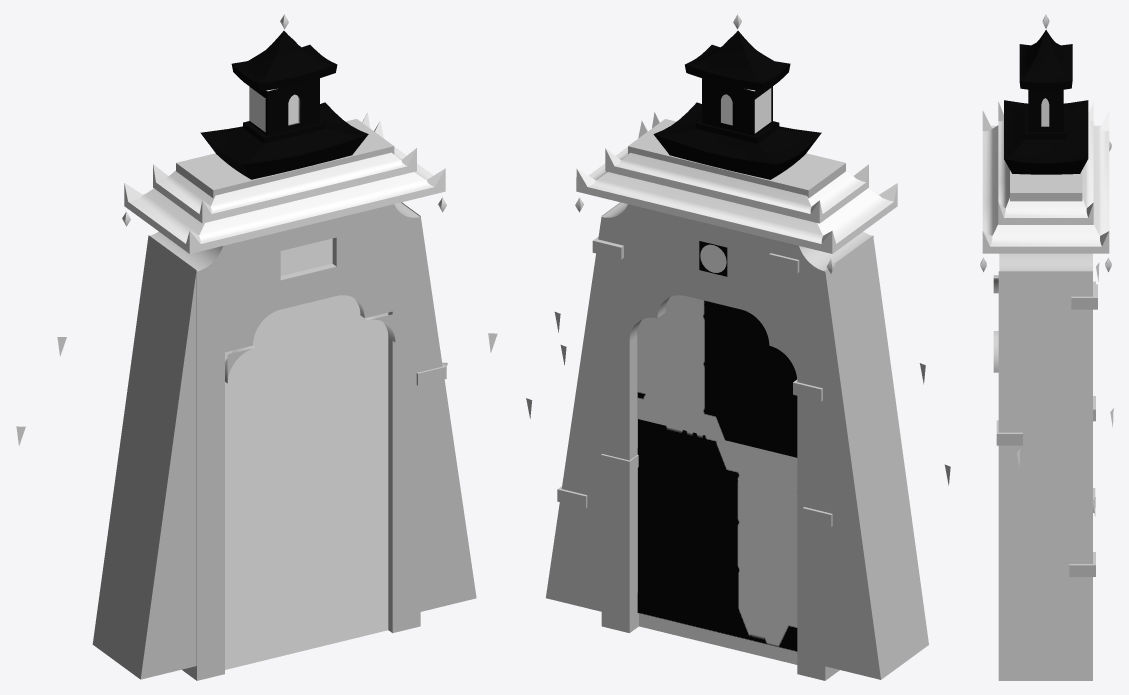
Rendered from SeaGate_EnterScene.fbx.
The picture shows the model from 3 angles, left to right: view 1: azimuth 30°, elevation 25°; view 2: azimuth 150°, elevation 25°; view 3: azimuth 270°, elevation 25°; orthographic projection. The views are drawn at different scales.
Parts seen in each view (by area): view 1: DepthFadeCube, Whitebox_Slope (×2), Whitebox_cube (×2), Whitebox_cube (6), Rooftop_Rescue_Huge, Rooftops_Four_Point_Village_Middle_Wide, Rooftops_Four_Point_Village_Middle_Wide (1), Whitebox_cube (7), Whitebox_cube (1), Whitebox_cube (3), Whitebox_cube (2), Whitebox_cube (4) (+3 smaller); view 2: Whitebox_Slope (×2), Doors_SlidingDoor_Top, Doors_SlidingDoor_Top (1), Whitebox_cube (×2), Whitebox_cube (6), Rooftop_Rescue_Huge, Rooftops_Four_Point_Village_Middle_Wide, Rooftops_Four_Point_Village_Middle_Wide (1), Whitebox_cube (7), Whitebox_cube (1), Whitebox_cube (3), Whitebox_cube (2) (+5 smaller); view 3: Whitebox_Slope, Rooftop_Rescue_Huge, Rooftops_Four_Point_Village_Middle_Wide, Rooftops_Four_Point_Village_Middle_Wide (1), Whitebox_cube, Whitebox_Concave (×2), Whitebox_cube (1), Whitebox_cube (2), Whitebox_cube (7), DepthFadeCube_Detail 2.
Boxes of the visible parts, x1,y1,x2,y2 form: DepthFadeCube: (225, 238, 388, 669); Whitebox_Slope (×2): (92, 202, 476, 679); Whitebox_cube (×2): (176, 119, 394, 680); Whitebox_cube (6): (388, 217, 420, 633); Rooftop_Rescue_Huge: (200, 31, 368, 179); Rooftops_Four_Point_Village_Middle_Wide: (124, 121, 445, 253); Rooftops_Four_Point_Village_Middle_Wide (1): (153, 112, 416, 223); Whitebox_cube (7): (364, 204, 392, 318); Whitebox_cube (1): (225, 238, 252, 352); Whitebox_cube (3): (332, 211, 364, 295); Whitebox_cube (2): (253, 232, 280, 316); Whitebox_cube (4): (280, 263, 336, 309); Whitebox_Slope (×2): (546, 202, 928, 679); Doors_SlidingDoor_Top: (637, 419, 797, 651); Doors_SlidingDoor_Top (1): (637, 295, 797, 457); Whitebox_cube (×2): (628, 119, 873, 680); Whitebox_cube (6): (601, 217, 638, 632); Rooftop_Rescue_Huge: (653, 31, 821, 179); Rooftops_Four_Point_Village_Middle_Wide: (576, 120, 897, 253); Rooftops_Four_Point_Village_Middle_Wide (1): (605, 112, 868, 223); Whitebox_cube (7): (629, 204, 657, 318); Whitebox_cube (1): (769, 238, 797, 352); Whitebox_cube (3): (657, 211, 685, 295); Whitebox_cube (2): (741, 232, 769, 316); Whitebox_Slope: (998, 271, 1092, 680); Rooftop_Rescue_Huge: (1004, 30, 1088, 174); Rooftops_Four_Point_Village_Middle_Wide: (982, 110, 1109, 253); Rooftops_Four_Point_Village_Middle_Wide (1): (998, 101, 1093, 224); Whitebox_cube: (1010, 170, 1082, 201); Whitebox_Concave (×2): (993, 253, 1092, 372); Whitebox_cube (1): (1071, 284, 1097, 309); Whitebox_cube (2): (996, 420, 1022, 445); Whitebox_cube (7): (1069, 552, 1095, 576); DepthFadeCube_Detail 2: (1041, 98, 1049, 126).
Size of what is drawn, in the model's own units: 15.76 by 21.27 by 4.3.
7 materials, 2 textured.
